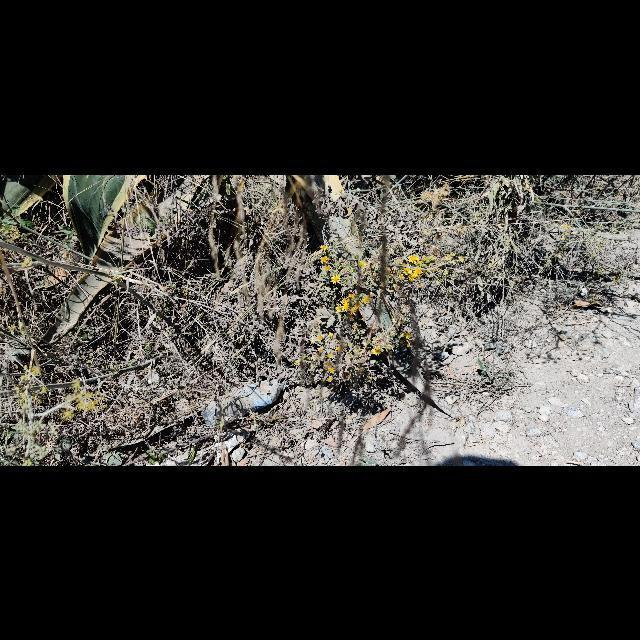Plastic: (202, 378, 284, 428)
